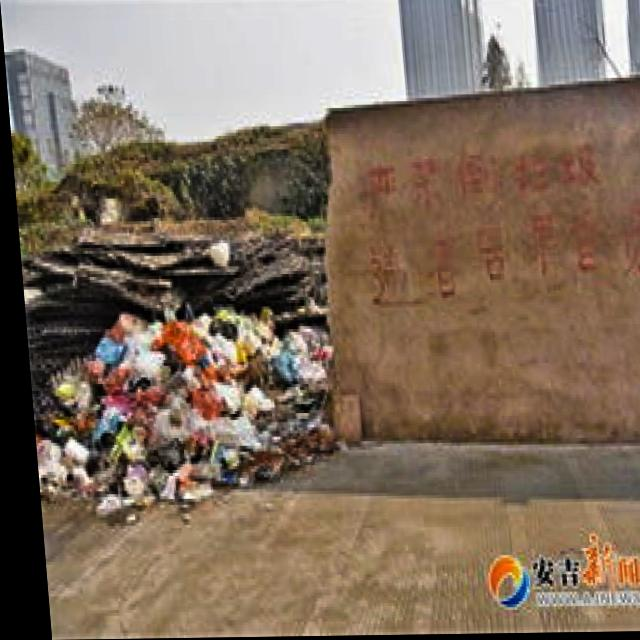garbage: (20, 303, 334, 524)
